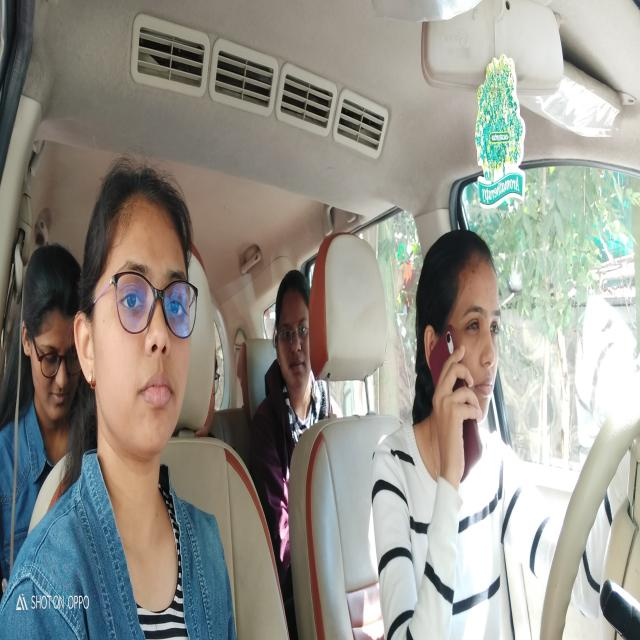mobile: (426, 332, 483, 484)
person: (74, 159, 205, 469), (415, 222, 509, 465), (21, 235, 84, 440), (274, 263, 317, 413), (201, 353, 225, 440)
